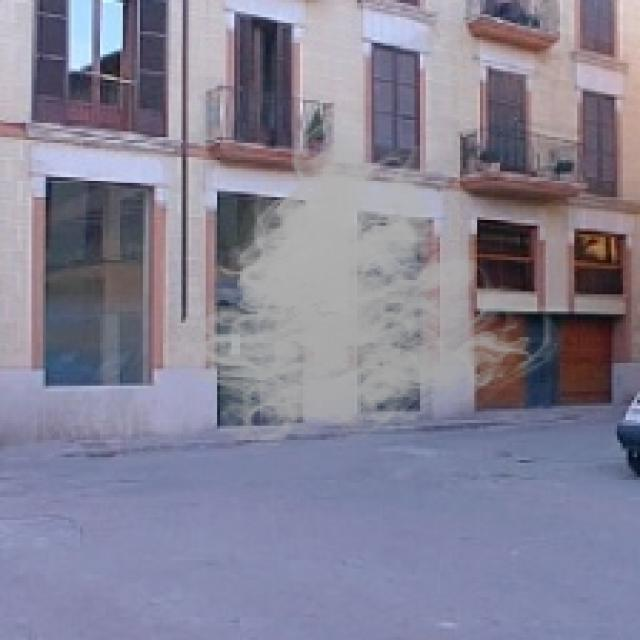smoke: (163, 108, 566, 463)
